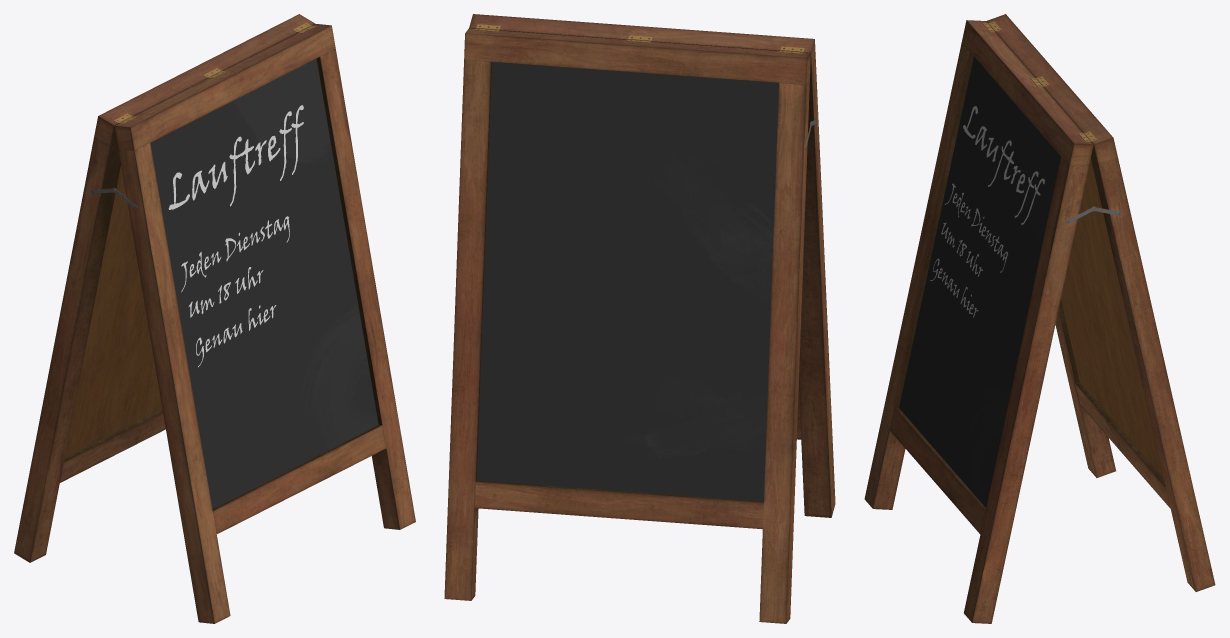
Rendered from sign-runner.glb.
3 renders of one model, left to right at view 1: azimuth 30°, elevation 25°; view 2: azimuth 150°, elevation 25°; view 3: azimuth 270°, elevation 25°, orthographic. The views are drawn at different scales.
Parts seen in each view (by area): view 1: standing_chalkboard_01, Text; view 2: standing_chalkboard_01; view 3: standing_chalkboard_01, Text.
Boxes of the visible parts, <box> form: standing_chalkboard_01: <box>14,14,415,623</box>; Text: <box>168,105,303,367</box>; standing_chalkboard_01: <box>444,14,835,623</box>; standing_chalkboard_01: <box>864,14,1215,623</box>; Text: <box>930,106,1044,317</box>.
Size of the model in its own units: 1.12 by 1.51 by 1.03.
2 materials, 2 textured.
